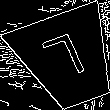L_S: (41, 30, 95, 89)
